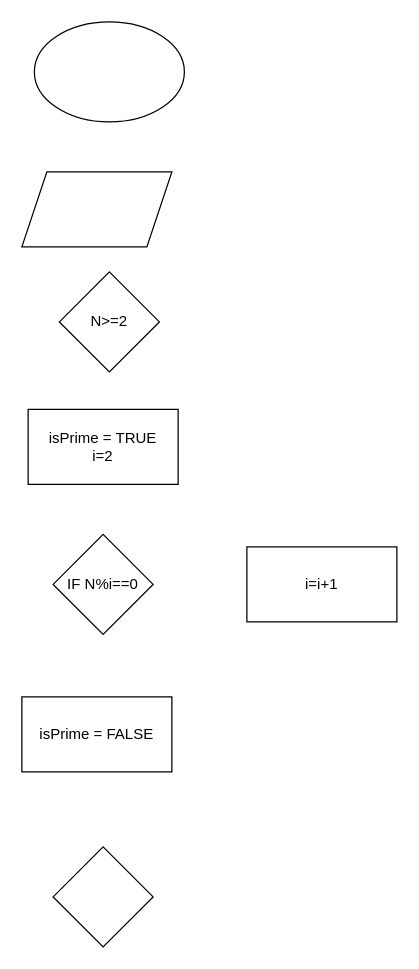
Some shapes in this 419 by 969 pixel diagram are drawn without their labels. Here are the shapes that lost their labels. From the top down, the box of each, then its label:
(33, 21, 184, 122): START
(21, 171, 172, 247): INPUT N
